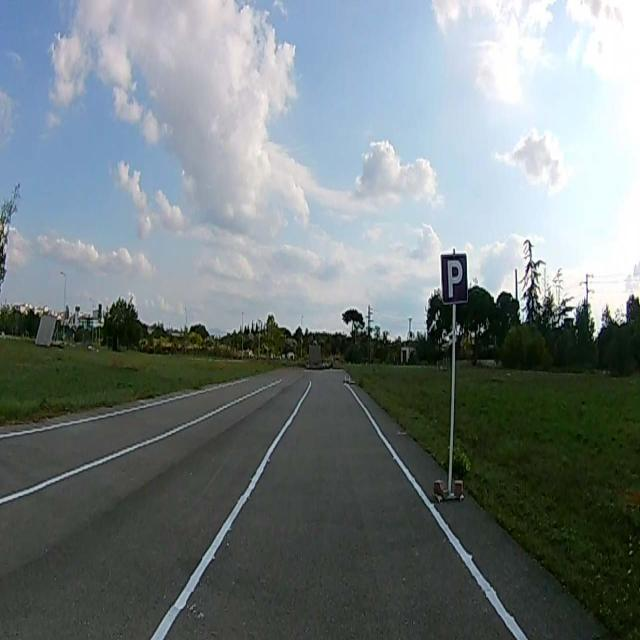park: (439, 255, 468, 306)
